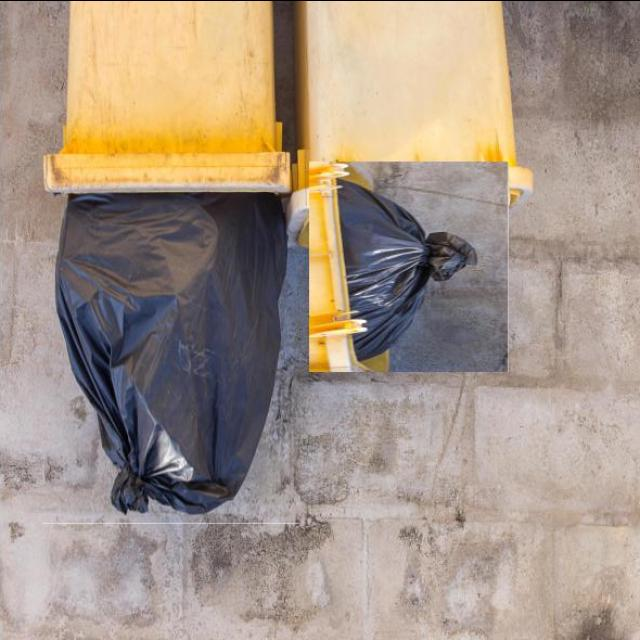plastik: (56, 193, 286, 513), (338, 181, 477, 360)
